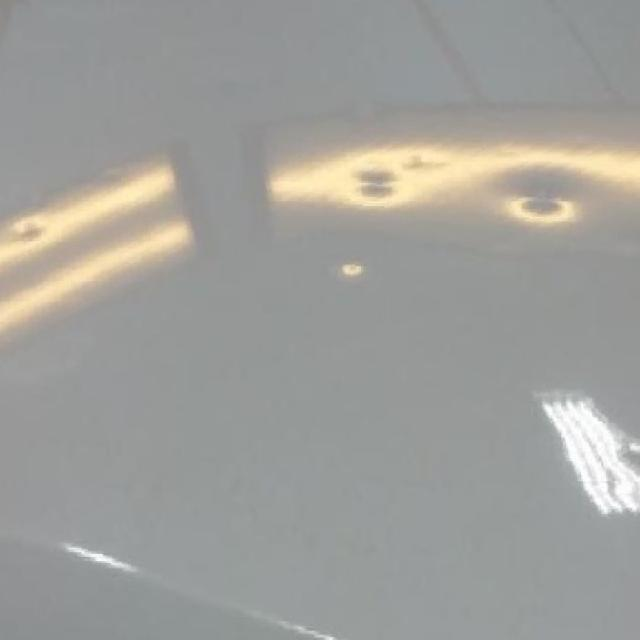dent: (351, 160, 402, 206), (508, 189, 573, 220), (405, 152, 448, 171), (15, 219, 43, 242), (342, 260, 365, 279)
